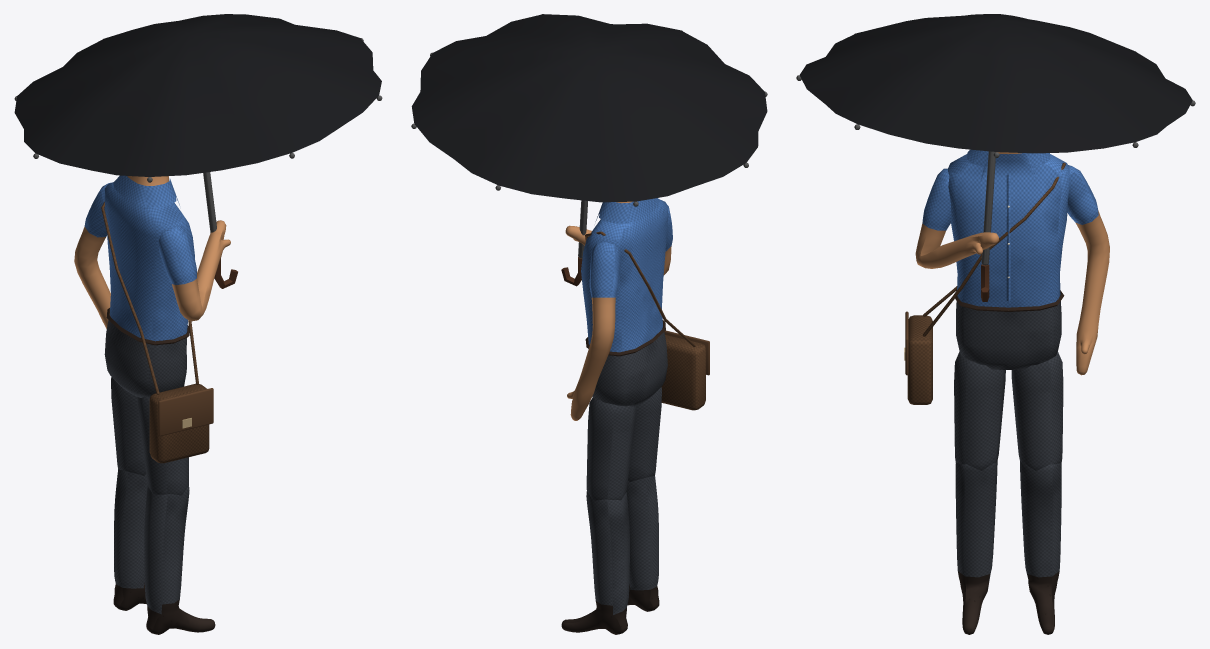
The model's file is walker.glb.
3 views of the same model, side by side, from view 1: azimuth 30°, elevation 25°; view 2: azimuth 150°, elevation 25°; view 3: azimuth 270°, elevation 25° (orthographic). The views are drawn at different scales.
Parts seen in each view (by area): view 1: umbrella_canopy, walker__cloth_#5b8fd9, shin.001, shin, walker__bag_brown, arm, thigh, thigh.001, bag_flap; view 2: umbrella_canopy, walker__cloth_#5b8fd9, shin, thigh, arm, shin.001, walker__bag_brown, thigh.001; view 3: umbrella_canopy, walker__cloth_#5b8fd9, shin.001, shin, thigh.001, thigh, arm, walker__bag_brown, umbrella_shaft, belt.
Boxes of the visible parts, x1,y1,x2,y2 form: umbrella_canopy: [14, 14, 381, 176]; walker__cloth_#5b8fd9: [104, 175, 230, 397]; shin.001: [144, 486, 215, 634]; shin: [113, 469, 147, 610]; walker__bag_brown: [101, 201, 209, 463]; arm: [74, 182, 111, 328]; thigh: [111, 377, 145, 475]; thigh.001: [137, 396, 188, 495]; bag_flap: [158, 388, 213, 436]; umbrella_canopy: [411, 14, 767, 202]; walker__cloth_#5b8fd9: [565, 198, 672, 406]; shin: [561, 491, 629, 634]; thigh: [586, 397, 636, 500]; arm: [567, 242, 620, 420]; shin.001: [626, 476, 659, 611]; walker__bag_brown: [585, 231, 705, 410]; thigh.001: [628, 387, 661, 481]; umbrella_canopy: [799, 14, 1192, 153]; walker__cloth_#5b8fd9: [915, 149, 1069, 369]; shin.001: [955, 460, 997, 634]; shin: [1020, 461, 1061, 634]; thigh.001: [954, 351, 1005, 470]; thigh: [1011, 351, 1063, 470]; arm: [1067, 165, 1109, 375]; walker__bag_brown: [907, 162, 1065, 404]; umbrella_shaft: [981, 151, 995, 265]; belt: [955, 290, 1064, 311].
Size of the model in its own units: 0.5042 by 0.8568 by 0.5068.
18 materials, 4 textured.
